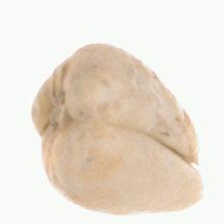L3: (185, 123, 205, 206)
L4: (31, 43, 203, 215)
